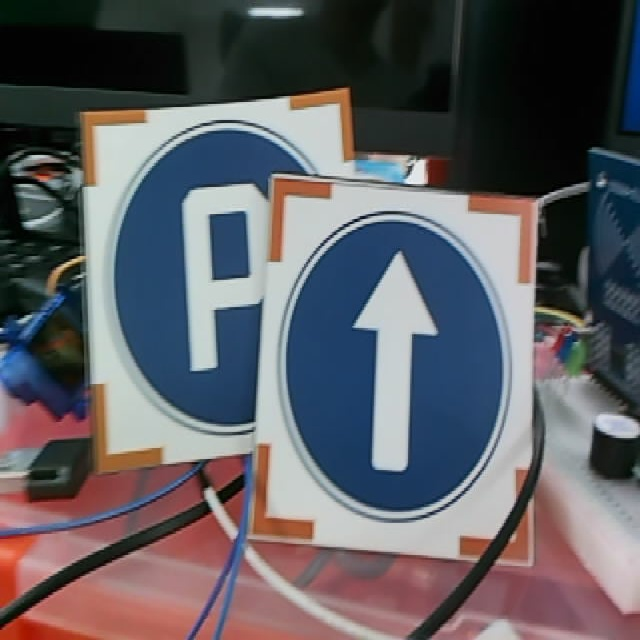parking: (84, 93, 370, 476)
straight: (250, 171, 541, 561)
